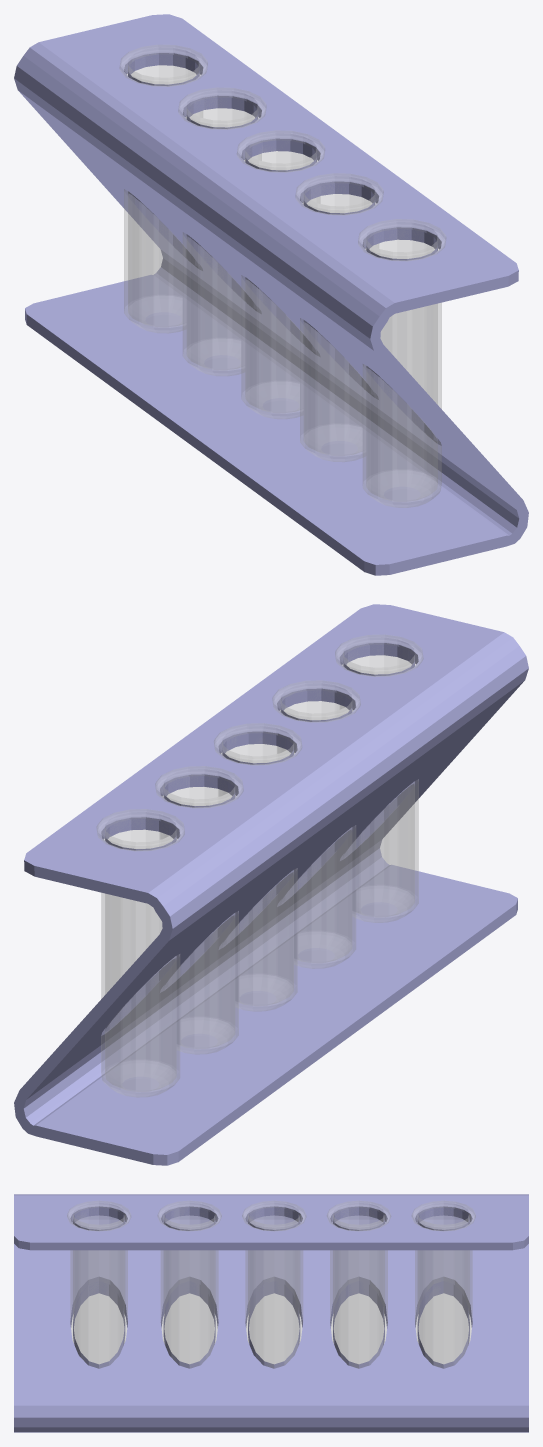
The model's file is TubosDeEnsaioVasio.fbx.
The picture shows the model from 3 angles, top to bottom: view 1: azimuth 30°, elevation 25°; view 2: azimuth 150°, elevation 25°; view 3: azimuth 270°, elevation 25°; orthographic projection. The views are drawn at different scales.
Visible parts, largest first — view 1: TubosDeEnsaioVazios; view 2: TubosDeEnsaioVazios; view 3: TubosDeEnsaioVazios.
Part boxes in pixels (<box>): TubosDeEnsaioVazios: <box>14,14,528,575</box>; TubosDeEnsaioVazios: <box>14,604,528,1165</box>; TubosDeEnsaioVazios: <box>14,1194,528,1432</box>.
Bounding box in the file's own units: 7.38 × 12.34 × 28.69.
